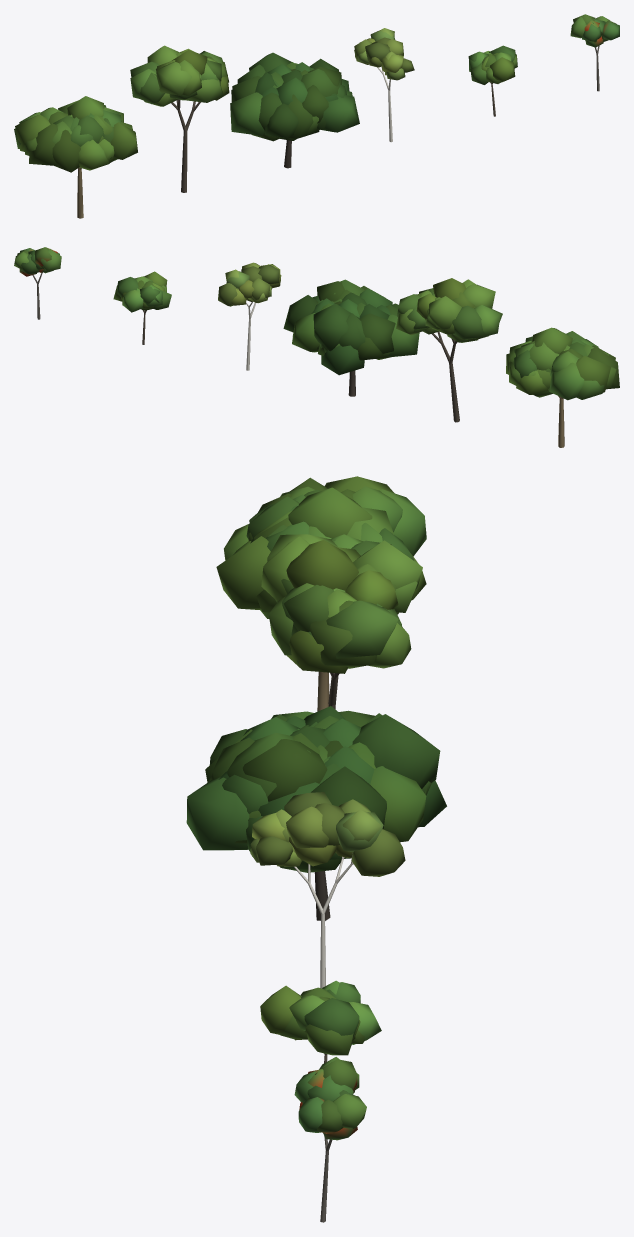
Rendered from trees.glb.
The picture shows the model from 3 angles, top to bottom: view 1: azimuth 30°, elevation 25°; view 2: azimuth 150°, elevation 25°; view 3: azimuth 270°, elevation 25°; orthographic projection. The views are drawn at different scales.
Visible parts, largest first — view 1: tree_chestnut_leaves, tree_plane_leaves, tree_lime_leaves, tree_birch_leaves, tree_young_leaves, tree_rowan_leaves, tree_lime_bark, tree_plane_bark; view 2: tree_chestnut_leaves, tree_plane_leaves, tree_lime_leaves, tree_birch_leaves, tree_young_leaves, tree_rowan_leaves, tree_lime_bark, tree_plane_bark; view 3: tree_chestnut_leaves, tree_lime_leaves, tree_plane_leaves, tree_birch_leaves, tree_young_leaves, tree_rowan_leaves.
Boxes of the visible parts, bbox=[...] form: tree_chestnut_leaves: bbox=[230, 52, 359, 141]; tree_plane_leaves: bbox=[14, 96, 137, 172]; tree_lime_leaves: bbox=[130, 45, 229, 106]; tree_birch_leaves: bbox=[354, 28, 414, 80]; tree_young_leaves: bbox=[468, 45, 517, 84]; tree_rowan_leaves: bbox=[570, 14, 619, 47]; tree_lime_bark: bbox=[171, 99, 200, 192]; tree_plane_bark: bbox=[77, 167, 83, 218]; tree_chestnut_leaves: bbox=[283, 279, 419, 375]; tree_plane_leaves: bbox=[506, 327, 619, 400]; tree_lime_leaves: bbox=[396, 278, 502, 342]; tree_birch_leaves: bbox=[218, 262, 281, 306]; tree_young_leaves: bbox=[113, 271, 171, 312]; tree_rowan_leaves: bbox=[14, 247, 61, 276]; tree_lime_bark: bbox=[432, 331, 459, 422]; tree_plane_bark: bbox=[558, 396, 564, 447]; tree_chestnut_leaves: bbox=[186, 706, 446, 872]; tree_lime_leaves: bbox=[261, 534, 422, 673]; tree_plane_leaves: bbox=[216, 476, 426, 618]; tree_birch_leaves: bbox=[250, 792, 405, 876]; tree_young_leaves: bbox=[260, 980, 381, 1055]; tree_rowan_leaves: bbox=[294, 1057, 366, 1140].
Size of the model in its own units: 80.11 by 18.23 by 15.24.
